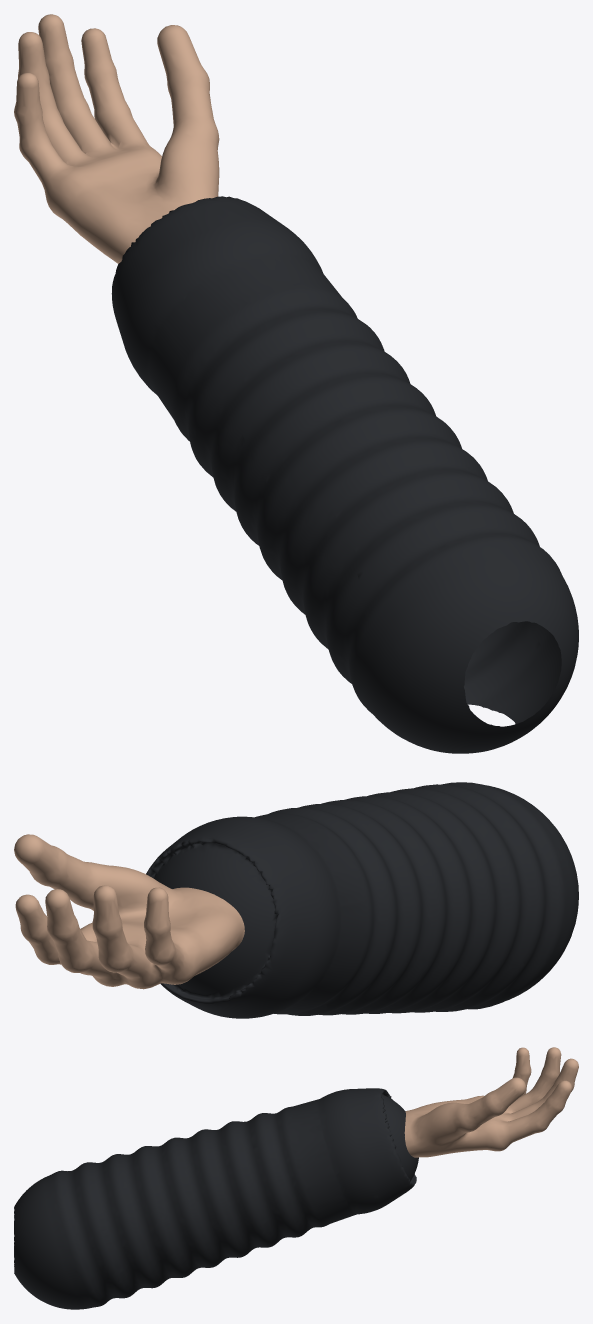
Rendered from his_right_palm.glb.
The picture shows the model from 3 angles, top to bottom: view 1: azimuth 30°, elevation 25°; view 2: azimuth 150°, elevation 25°; view 3: azimuth 270°, elevation 25°; orthographic projection. The views are drawn at different scales.
Parts seen in each view (by area): view 1: his_right_palm; view 2: his_right_palm; view 3: his_right_palm.
Boxes of the visible parts, x1,y1,x2,y2 form: his_right_palm: (14, 14, 578, 753); his_right_palm: (14, 782, 578, 1018); his_right_palm: (14, 1047, 578, 1309).
Bounding box in the file's own units: 0.1386 × 0.2616 × 0.5534.
